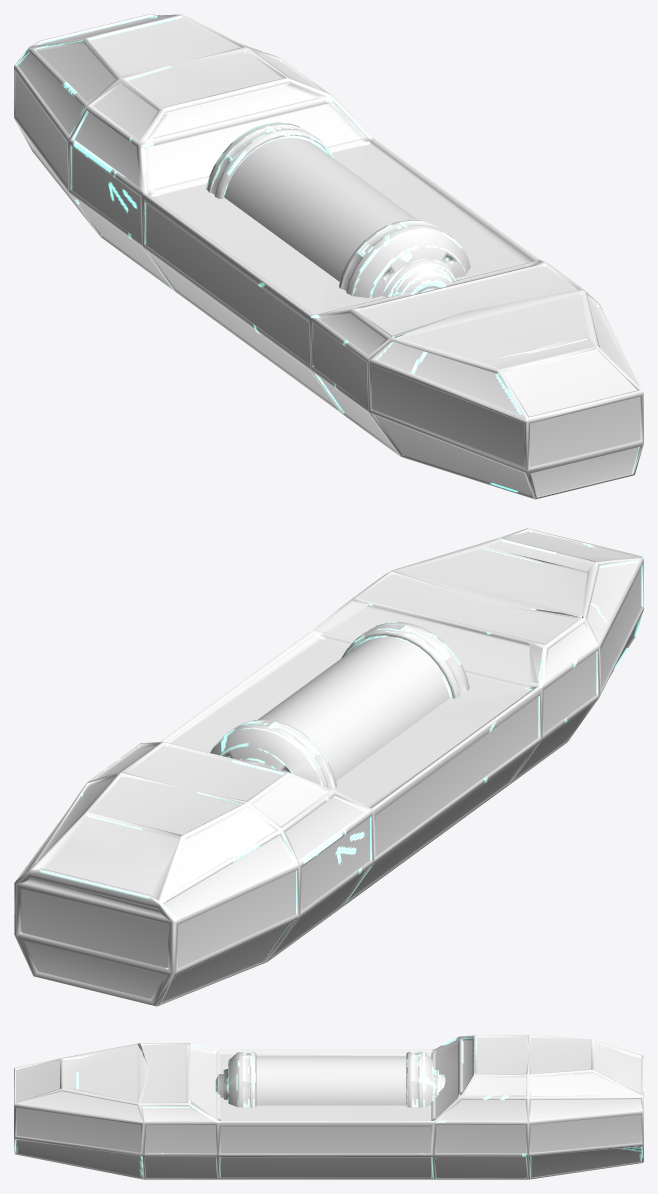
Rendered from galere_v3.glb.
3 views of the same model, one above another, from view 1: azimuth 30°, elevation 25°; view 2: azimuth 150°, elevation 25°; view 3: azimuth 270°, elevation 25° (orthographic). The views are drawn at different scales.
Visible parts, largest first — view 1: galere_v3; view 2: galere_v3; view 3: galere_v3.
Part boxes in pixels (x1,y1,x2,y2): galere_v3: (14,14,643,499); galere_v3: (14,528,643,1006); galere_v3: (14,1035,643,1179).
Size of the model in its own units: 0.7046 by 0.4507 by 2.6.
1 material, 1 textured.
